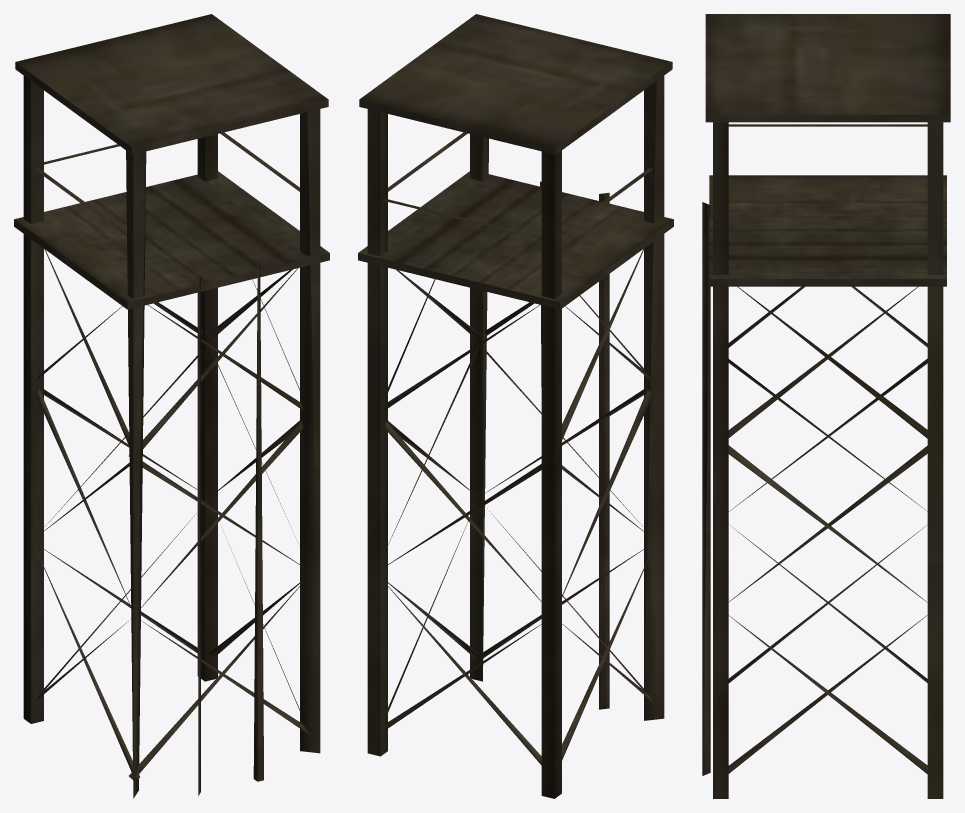
3 renders of one model, left to right at view 1: azimuth 30°, elevation 25°; view 2: azimuth 150°, elevation 25°; view 3: azimuth 270°, elevation 25°, orthographic. The views are drawn at different scales.
Visible parts, largest first — view 1: outpost; view 2: outpost; view 3: outpost.
Boxes of the visible parts, x1,y1,x2,y2 form: outpost: (14,14,329,798); outpost: (358,14,673,798); outpost: (702,14,950,798).
Size of the model in its own units: 2.55 by 8 by 2.59.
1 material, 1 textured.
